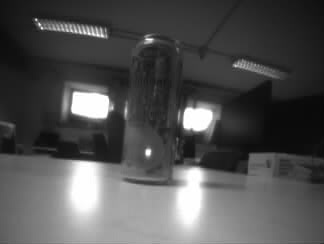Tin can: (124, 35, 181, 184)
